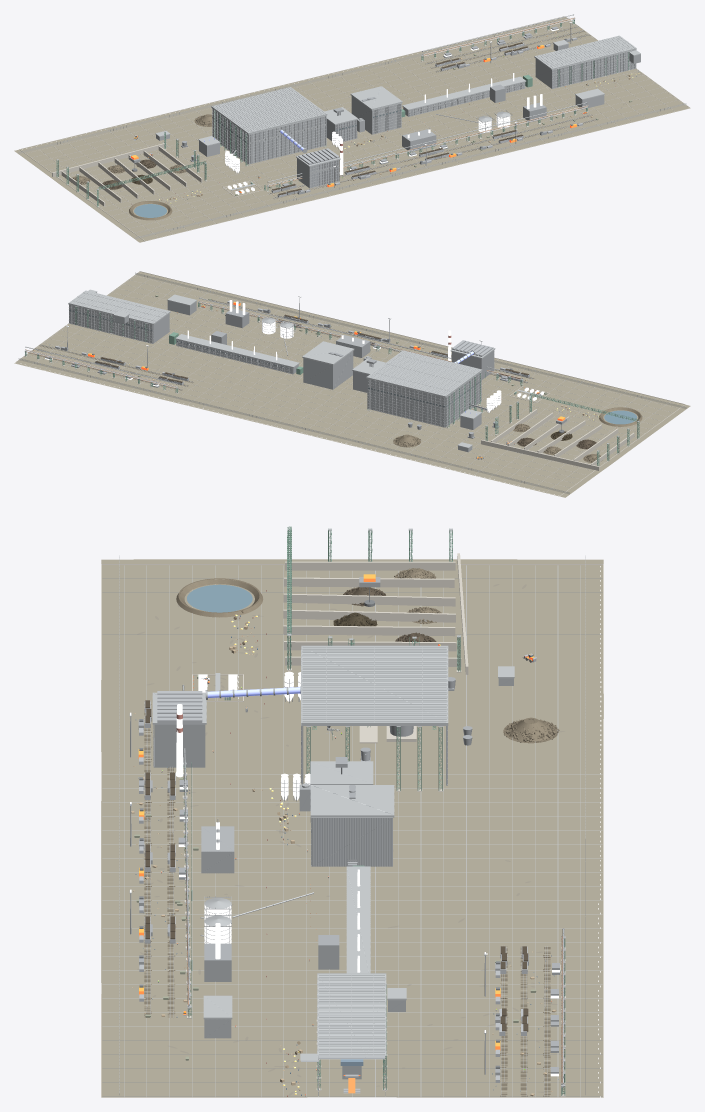
The model's file is eafminimill.glb.
3 views of the same model, one above another, from view 1: azimuth 30°, elevation 25°; view 2: azimuth 150°, elevation 25°; view 3: azimuth 270°, elevation 25° (orthographic). The views are drawn at different scales.
Parts seen in each view (by area): view 1: structure/mat_8b8166_51, structure/seam, structure/clad, structure/roof, galv/galv, structure/concrete, structure/steelD, fence/mesh, structure/green, structure/waste, structure/gray, structure/pipeM (+6 smaller); view 2: structure/mat_8b8166_51, structure/seam, structure/clad, structure/roof, structure/concrete, galv/galv, structure/steelD, fence/mesh, structure/green, structure/waste, structure/gray, structure/ore (+7 smaller); view 3: structure/mat_8b8166_51, structure/seam, structure/roof, structure/concrete, structure/clad, structure/waste, structure/steelD, galv/galv, structure/green, structure/gray, structure/ore, structure/white (+4 smaller).
Boxes of the visible parts, left/top/right/bottom form: structure/mat_8b8166_51: left=14, top=17, right=690, bottom=242; structure/seam: left=27, top=18, right=688, bottom=237; structure/clad: left=156, top=44, right=640, bottom=163; structure/roof: left=155, top=35, right=640, bottom=190; galv/galv: left=56, top=14, right=636, bottom=198; structure/concrete: left=19, top=16, right=688, bottom=241; structure/steelD: left=181, top=17, right=577, bottom=194; fence/mesh: left=18, top=18, right=686, bottom=239; structure/green: left=56, top=19, right=629, bottom=206; structure/waste: left=72, top=26, right=595, bottom=220; structure/gray: left=271, top=37, right=583, bottom=197; structure/pipeM: left=268, top=17, right=587, bottom=185; structure/mat_8b8166_51: left=14, top=271, right=690, bottom=497; structure/seam: left=16, top=272, right=677, bottom=491; structure/clad: left=69, top=300, right=481, bottom=452; structure/roof: left=68, top=289, right=541, bottom=448; structure/concrete: left=14, top=271, right=685, bottom=496; galv/galv: left=24, top=297, right=639, bottom=451; structure/steelD: left=35, top=296, right=520, bottom=438; fence/mesh: left=19, top=273, right=686, bottom=494; structure/green: left=25, top=302, right=639, bottom=465; structure/waste: left=30, top=299, right=642, bottom=462; structure/gray: left=55, top=301, right=529, bottom=384; structure/ore: left=95, top=314, right=596, bottom=449; structure/mat_8b8166_51: left=101, top=559, right=603, bottom=1097; structure/seam: left=102, top=565, right=602, bottom=1097; structure/roof: left=152, top=645, right=514, bottom=1060; structure/concrete: left=101, top=553, right=603, bottom=1096; structure/clad: left=201, top=678, right=513, bottom=1061; structure/waste: left=144, top=568, right=558, bottom=1096; structure/steelD: left=129, top=677, right=564, bottom=1079; galv/galv: left=130, top=528, right=565, bottom=1096; structure/green: left=183, top=526, right=565, bottom=1095; structure/gray: left=139, top=691, right=527, bottom=1082; structure/ore: left=145, top=587, right=528, bottom=1031; structure/white: left=176, top=566, right=601, bottom=1097.
Size of the model in its own units: 850 by 52.02 by 335.
48 materials, 7 textured.
